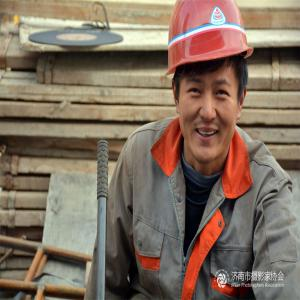red: (168, 2, 249, 163)
